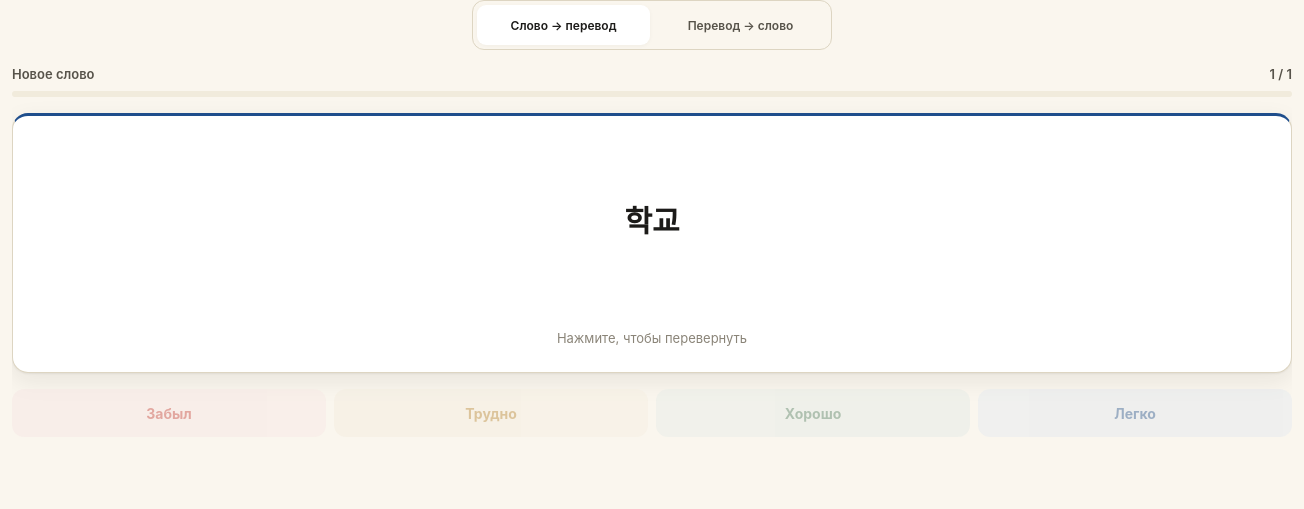
Test: оставляет карточку открытой при ошибке записи и позволяет повторить
Click the button with aria-label "Показать ответ". click: (652, 243)
box: left=12, top=113, right=1292, bottom=373
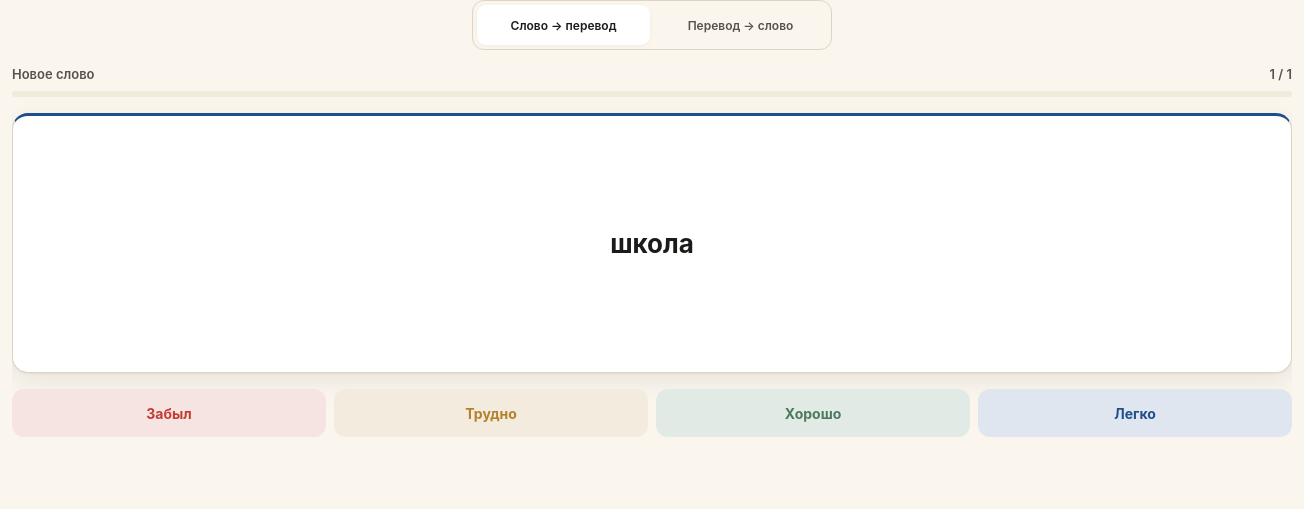
Click the button "Хорошо". click: (813, 413)
box: left=656, top=389, right=970, bottom=437
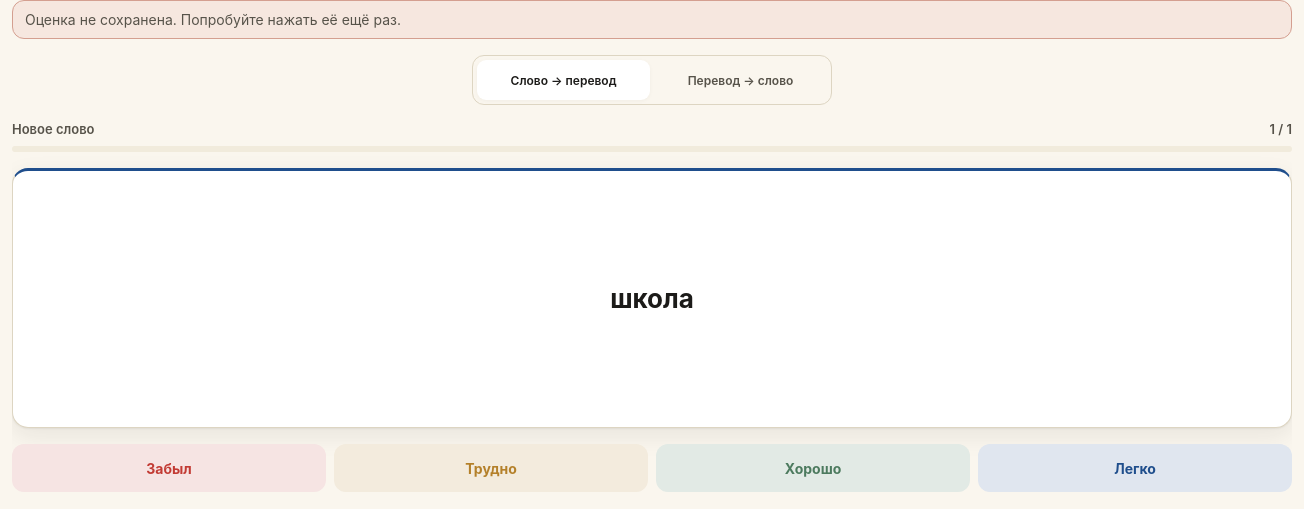
expect the text "Сессия завершена" is not shown: met
expect the message "Оценка не сохранена. Попробуйте нажать её ещё раз." is shown: met, box left=12, top=0, right=1292, bottom=39
Click the button "Хорошо". click: (813, 468)
box: left=656, top=444, right=970, bottom=492
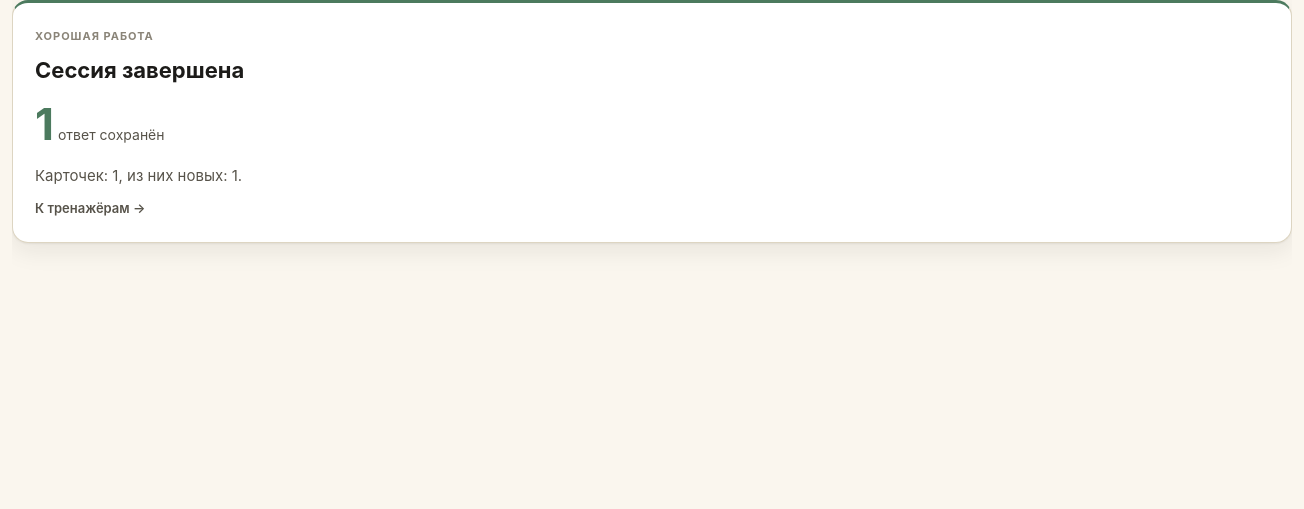
expect the heading "Сессия завершена" is shown: met, box left=35, top=57, right=244, bottom=83
